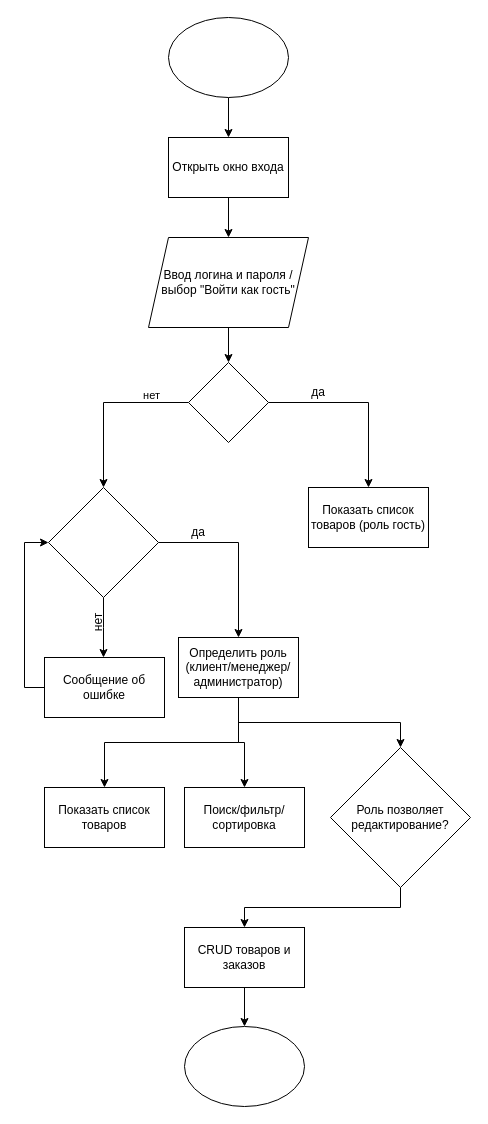
The diagram is 488 pixels wide and 1124 high, and some of its shapes have lost their labels. Here are the shapes that lost their labels. From the top down, the centre of each, then its label:
the point at 228,57: Начало
the point at 228,402: Гость?
the point at 103,542: Логин/пароль верны?
the point at 244,1066: Выход
